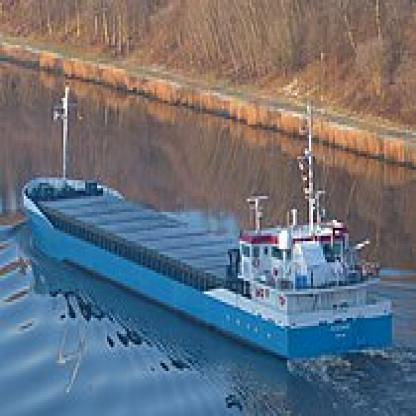Tanker: (36, 101, 392, 363)
